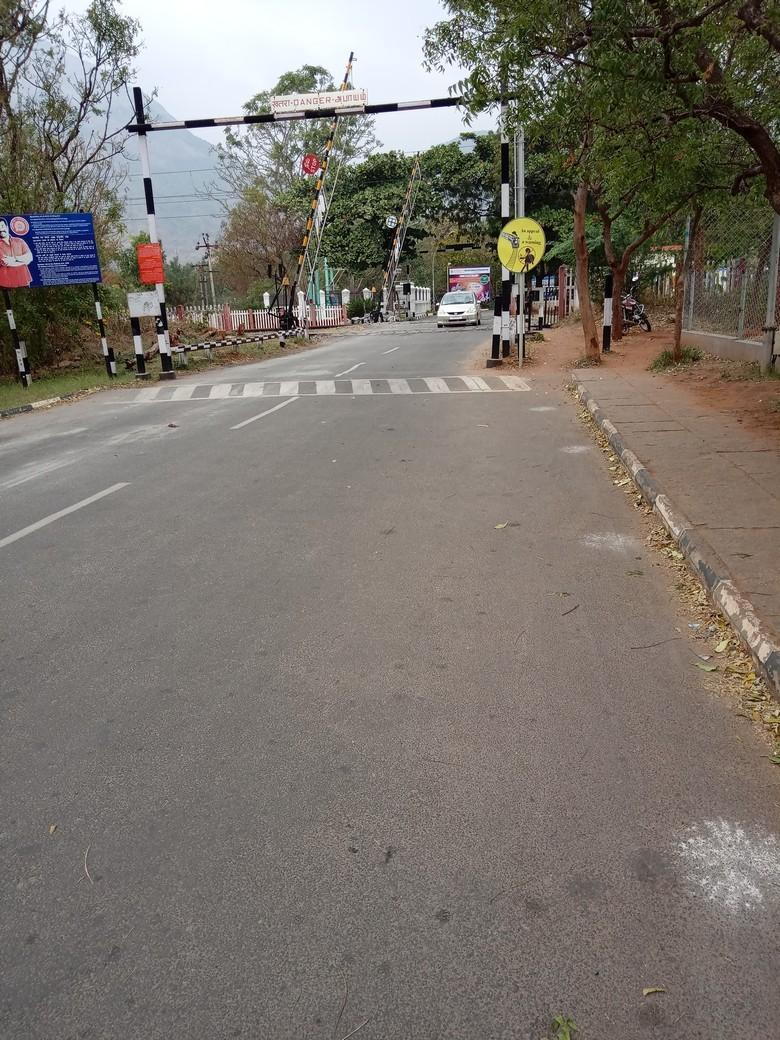speed-bump: (88, 373, 544, 405)
